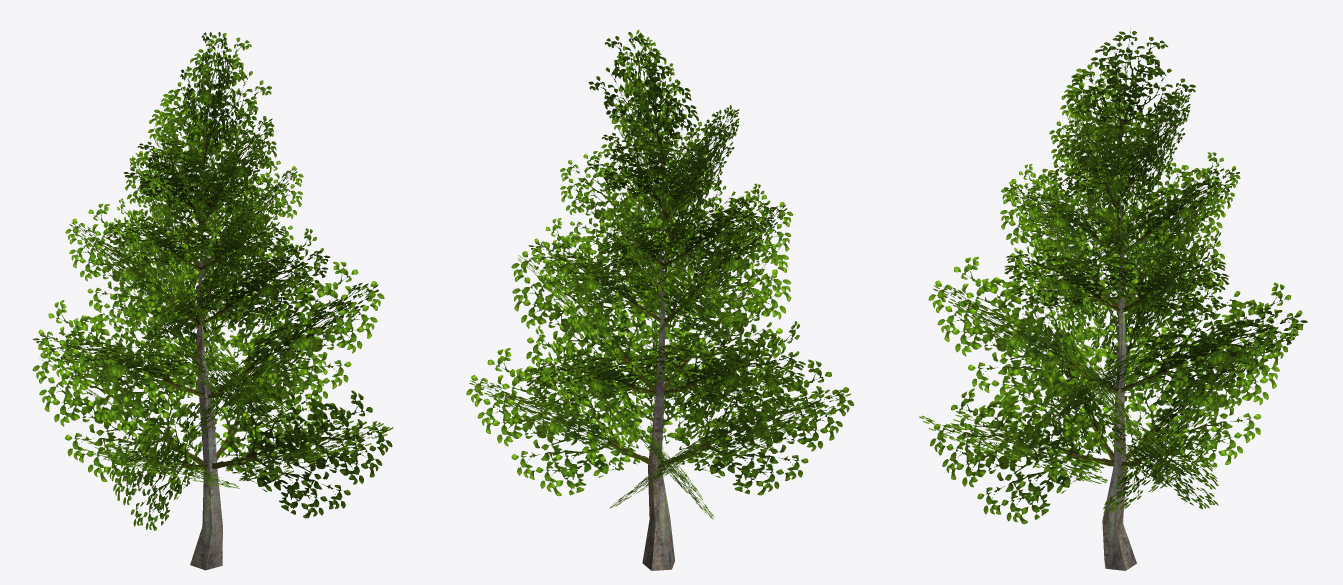
Rendered from tree.FBX.
3 views of the same model, side by side, from view 1: azimuth 30°, elevation 25°; view 2: azimuth 150°, elevation 25°; view 3: azimuth 270°, elevation 25° (orthographic). The views are drawn at different scales.
Visible parts, largest first — view 1: a-b_tree_447; view 2: a-b_tree_447; view 3: a-b_tree_447.
Part boxes in pixels (<box>): a-b_tree_447: <box>32,32,393,570</box>; a-b_tree_447: <box>466,30,853,570</box>; a-b_tree_447: <box>919,28,1307,570</box>.
Size of the model in its own units: 6.1 by 8.99 by 6.12.
Materials: 2 (2 with a texture image).
